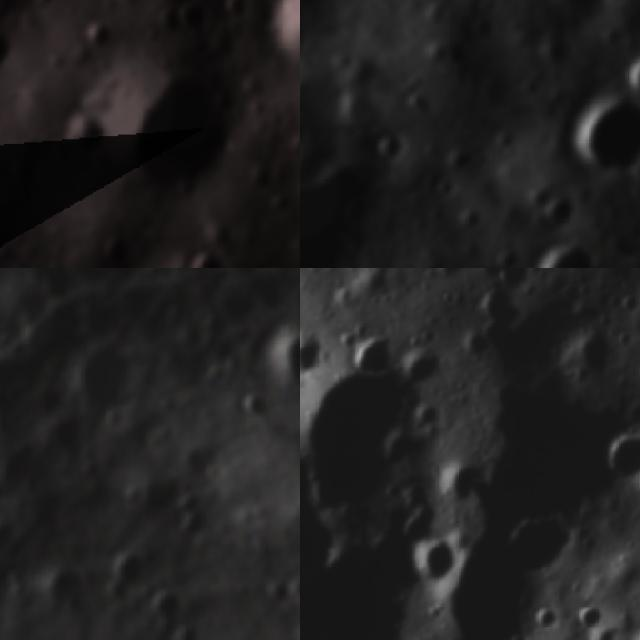crater: (304, 355, 443, 520), (300, 91, 421, 268), (300, 506, 435, 640), (110, 63, 241, 197), (451, 519, 573, 640), (547, 68, 640, 200), (68, 336, 142, 416), (300, 51, 364, 142), (517, 222, 613, 268), (249, 321, 300, 407), (329, 80, 389, 140), (164, 479, 213, 547), (36, 404, 92, 460), (536, 183, 590, 238), (367, 120, 420, 174), (300, 500, 329, 596), (36, 558, 90, 608), (602, 426, 640, 487), (474, 286, 524, 332), (43, 268, 157, 288), (588, 12, 634, 58), (464, 4, 509, 51), (415, 543, 458, 592), (347, 333, 398, 374), (102, 549, 154, 589), (614, 32, 640, 109), (485, 120, 528, 162), (424, 168, 466, 210), (482, 233, 531, 268), (145, 584, 186, 622), (415, 0, 458, 36), (439, 33, 477, 73), (173, 2, 210, 43), (95, 230, 134, 268), (300, 0, 322, 65), (68, 118, 105, 156), (181, 248, 238, 268), (236, 389, 264, 428), (470, 0, 504, 26), (300, 341, 323, 379), (220, 268, 263, 284), (0, 31, 12, 85), (285, 619, 300, 640)
